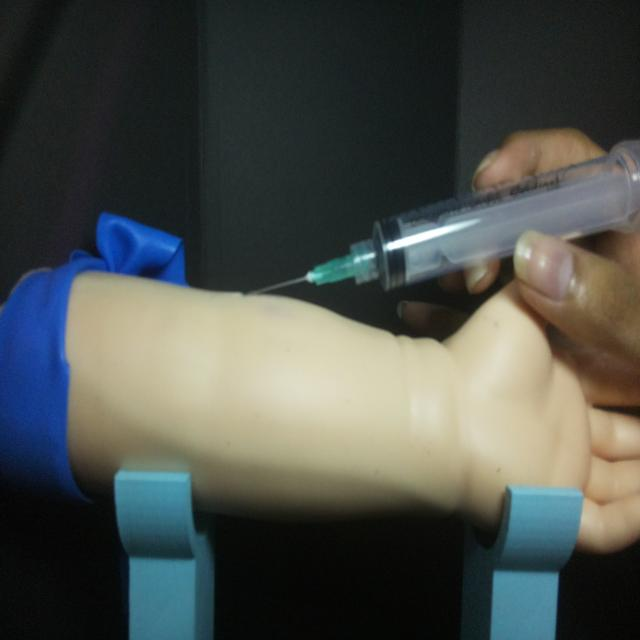19deg: (245, 135, 638, 301)
